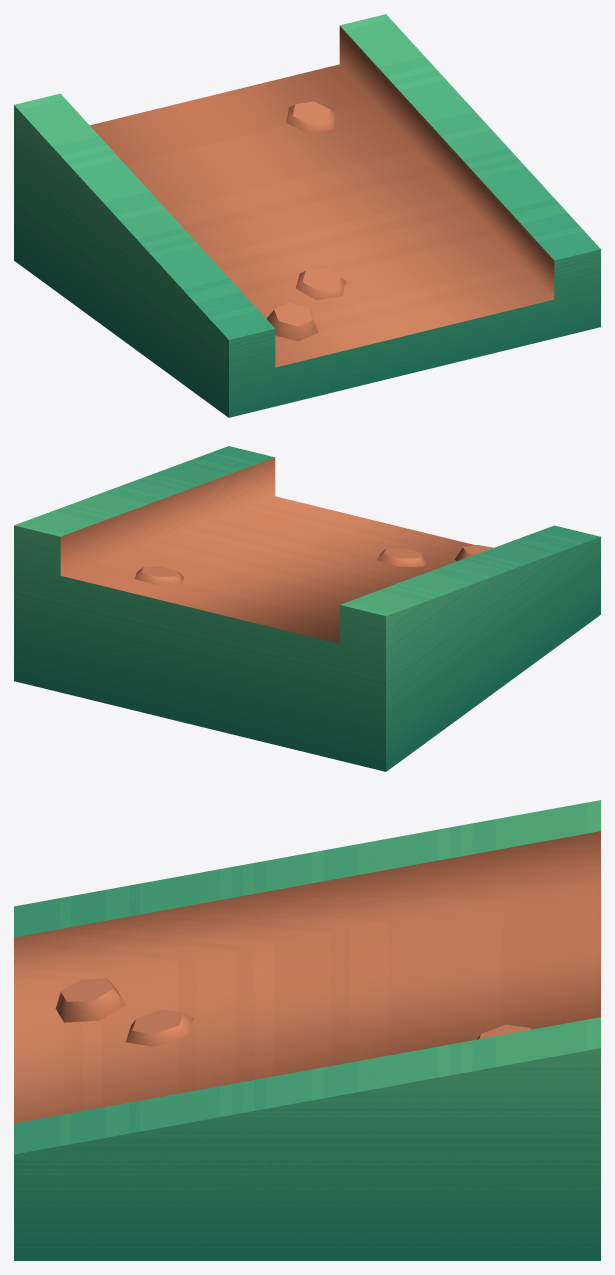
File: tower-defense-kit--tile-straight-slope.glb
3 renders of one model, top to bottom at view 1: azimuth 30°, elevation 25°; view 2: azimuth 150°, elevation 25°; view 3: azimuth 270°, elevation 25°, orthographic. The views are drawn at different scales.
Visible parts, largest first — view 1: tile-straight-slope; view 2: tile-straight-slope; view 3: tile-straight-slope.
Boxes of the visible parts, x1,y1,x2,y2 form: tile-straight-slope: [14, 14, 600, 417]; tile-straight-slope: [14, 446, 600, 771]; tile-straight-slope: [14, 800, 600, 1260].
Bounding box in the file's own units: 1 × 0.4 × 1.
1 material, 1 textured.
